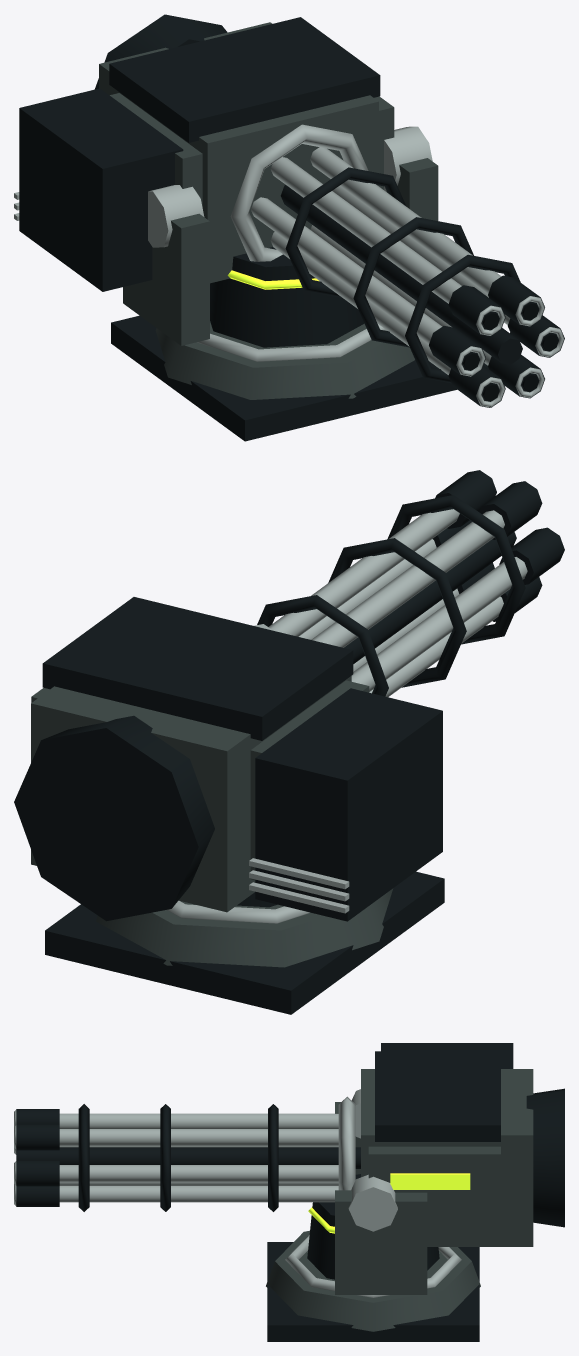
Rendered from rotary-cannon-lod3.glb.
The picture shows the model from 3 angles, top to bottom: view 1: azimuth 30°, elevation 25°; view 2: azimuth 150°, elevation 25°; view 3: azimuth 270°, elevation 25°; orthographic projection. The views are drawn at different scales.
Visible parts, largest first — view 1: feed__Recessed_carbon_mechanism, armor__Recessed_carbon_mechanism, rotary-barrels__Machined_titanium, receiver__Cerakote_graphite_armor, mount__Recessed_carbon_mechanism, mount__Cerakote_graphite_armor, cradle__Cerakote_graphite_armor, yaw-drive__Recessed_carbon_mechanism, barrel-clamp__Recessed_carbon_mechanism, muzzle-brakes__Recessed_carbon_mechanism, rotary-barrels__Recessed_carbon_mechanism, barrel-clamp__Machined_titanium (+7 smaller); view 2: feed__Recessed_carbon_mechanism, receiver__Recessed_carbon_mechanism, armor__Recessed_carbon_mechanism, rotary-barrels__Machined_titanium, mount__Recessed_carbon_mechanism, receiver__Cerakote_graphite_armor, mount__Cerakote_graphite_armor, barrel-clamp__Recessed_carbon_mechanism, muzzle-brakes__Recessed_carbon_mechanism, rotary-barrels__Recessed_carbon_mechanism, feed__Machined_titanium, armor__Cerakote_graphite_armor (+1 smaller); view 3: rotary-barrels__Machined_titanium, armor__Recessed_carbon_mechanism, armor__Cerakote_graphite_armor, cradle__Cerakote_graphite_armor, receiver__Cerakote_graphite_armor, mount__Cerakote_graphite_armor, mount__Recessed_carbon_mechanism, rotary-barrels__Recessed_carbon_mechanism, receiver__Recessed_carbon_mechanism, muzzle-brakes__Recessed_carbon_mechanism, barrel-clamp__Recessed_carbon_mechanism, trunnion__Machined_titanium (+5 smaller).
Boxes of the visible parts, <box> form: feed__Recessed_carbon_mechanism: <box>19,88,183,291</box>; armor__Recessed_carbon_mechanism: <box>109,17,380,142</box>; rotary-barrels__Machined_titanium: <box>251,147,510,374</box>; receiver__Cerakote_graphite_armor: <box>99,22,378,283</box>; mount__Recessed_carbon_mechanism: <box>111,315,456,441</box>; mount__Cerakote_graphite_armor: <box>155,321,414,399</box>; cradle__Cerakote_graphite_armor: <box>123,158,438,345</box>; yaw-drive__Recessed_carbon_mechanism: <box>210,247,364,347</box>; barrel-clamp__Recessed_carbon_mechanism: <box>285,167,520,383</box>; muzzle-brakes__Recessed_carbon_mechanism: <box>429,275,564,407</box>; rotary-barrels__Recessed_carbon_mechanism: <box>280,185,522,364</box>; barrel-clamp__Machined_titanium: <box>230,124,368,261</box>; feed__Recessed_carbon_mechanism: <box>255,688,442,921</box>; receiver__Recessed_carbon_mechanism: <box>14,715,214,921</box>; armor__Recessed_carbon_mechanism: <box>42,597,353,740</box>; rotary-barrels__Machined_titanium: <box>268,509,527,697</box>; mount__Recessed_carbon_mechanism: <box>45,871,444,1014</box>; receiver__Cerakote_graphite_armor: <box>31,676,351,912</box>; mount__Cerakote_graphite_armor: <box>96,888,393,967</box>; barrel-clamp__Recessed_carbon_mechanism: <box>257,495,525,696</box>; muzzle-brakes__Recessed_carbon_mechanism: <box>432,470,564,621</box>; rotary-barrels__Recessed_carbon_mechanism: <box>344,532,516,663</box>; feed__Machined_titanium: <box>249,858,349,913</box>; armor__Cerakote_graphite_armor: <box>31,680,369,880</box>; rotary-barrels__Machined_titanium: <box>59,1113,338,1202</box>; armor__Recessed_carbon_mechanism: <box>375,1051,500,1141</box>; armor__Cerakote_graphite_armor: <box>368,1146,500,1243</box>; cradle__Cerakote_graphite_armor: <box>335,1102,427,1294</box>; receiver__Cerakote_graphite_armor: <box>361,1069,533,1246</box>; mount__Cerakote_graphite_armor: <box>266,1230,480,1331</box>; mount__Recessed_carbon_mechanism: <box>267,1242,479,1341</box>; rotary-barrels__Recessed_carbon_mechanism: <box>16,1147,360,1168</box>; receiver__Recessed_carbon_mechanism: <box>526,1088,564,1227</box>; muzzle-brakes__Recessed_carbon_mechanism: <box>16,1109,59,1206</box>; barrel-clamp__Recessed_carbon_mechanism: <box>78,1104,278,1211</box>; trunnion__Machined_titanium: <box>348,1089,397,1231</box>.
Bounding box in the file's own units: 1.86 × 1.52 × 3.58.
